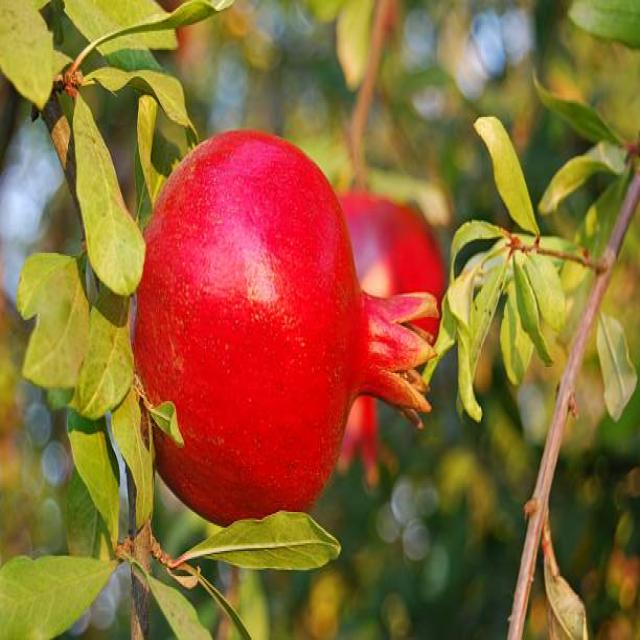Ripe: (130, 123, 443, 533)
